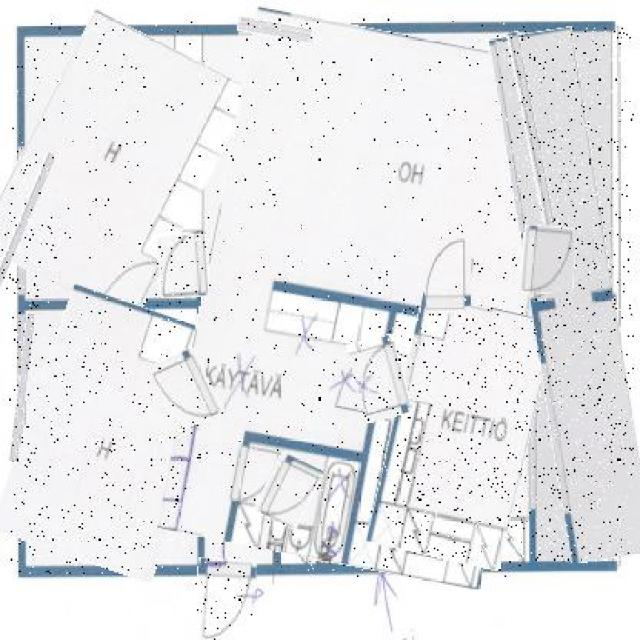door: (196, 557, 256, 640), (350, 337, 408, 421), (156, 352, 216, 430), (260, 456, 318, 526), (424, 231, 470, 314), (522, 226, 576, 294), (157, 234, 209, 298)
window: (2, 151, 40, 298), (516, 31, 544, 226), (14, 314, 31, 461), (238, 18, 312, 40)
zone: (182, 18, 556, 577), (509, 28, 634, 562), (0, 22, 226, 310), (9, 295, 216, 574), (382, 299, 542, 566)
